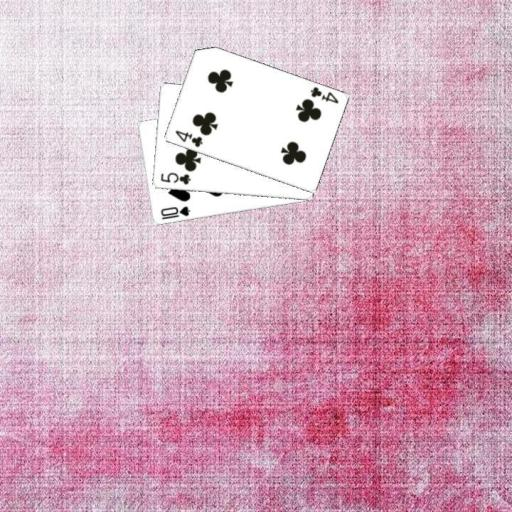10S: (157, 204, 191, 222)
4C: (172, 127, 204, 149), (307, 84, 340, 105)
5C: (157, 170, 191, 186)
